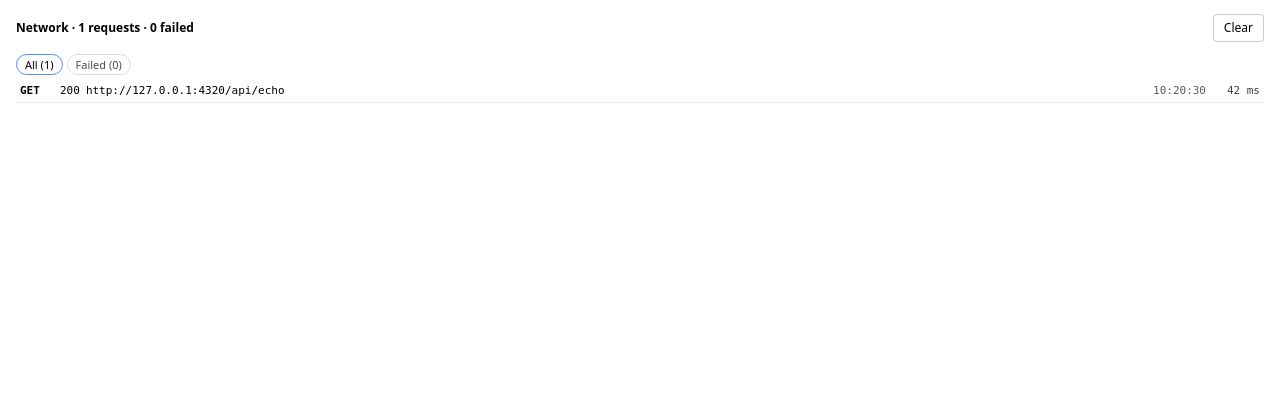
Scenario: NetworkDrawer › shows the truncation and base64 notes for capped bodies
The width and height of the screenshot is (1280, 417).
Click the button "GET 200 http://127.0.0.1:4320/api/echo 10:20:30 42 ms".
click(185, 91)  # box top-left (16, 81), bottom-right (1264, 103)
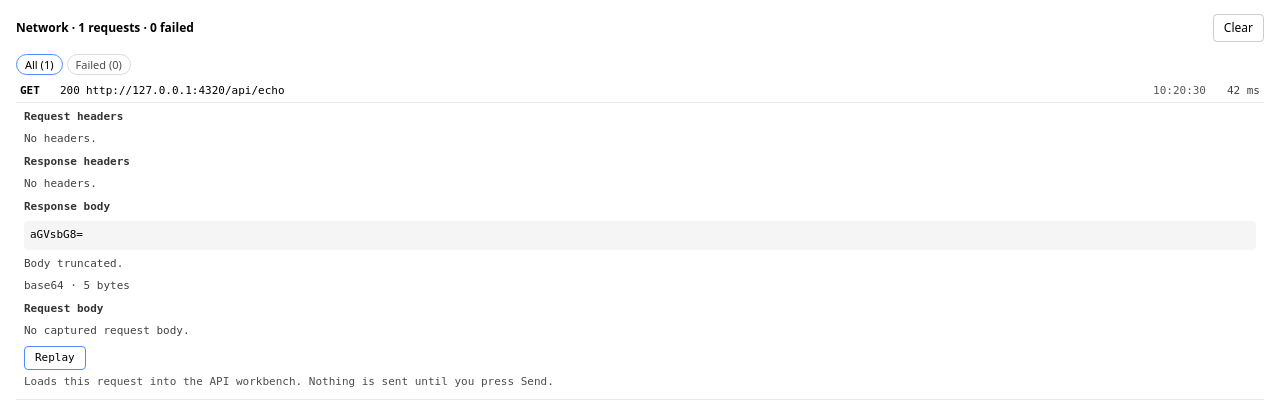
Check: the text "Body truncated." is shown, box top-left (24, 257), bottom-right (123, 270)
Check: the text "base64 · 5 bytes" is shown, box top-left (24, 279), bottom-right (130, 292)
